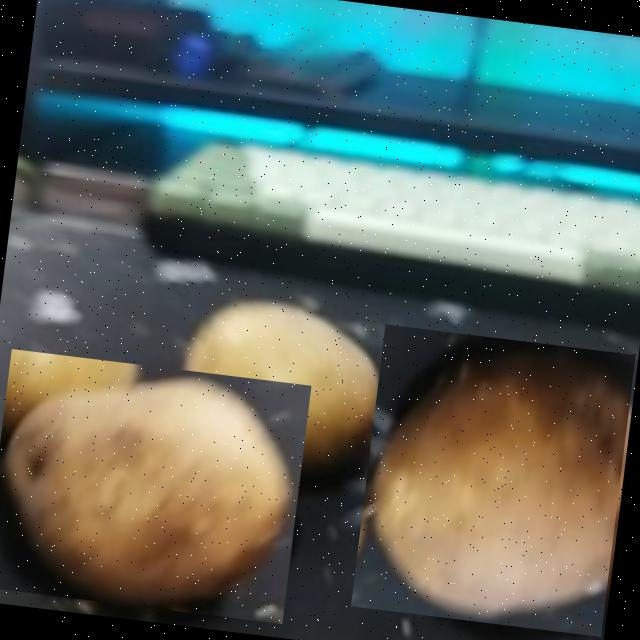Damaged potato: (350, 324, 636, 636), (0, 348, 311, 623)
Potato: (168, 292, 394, 480)
